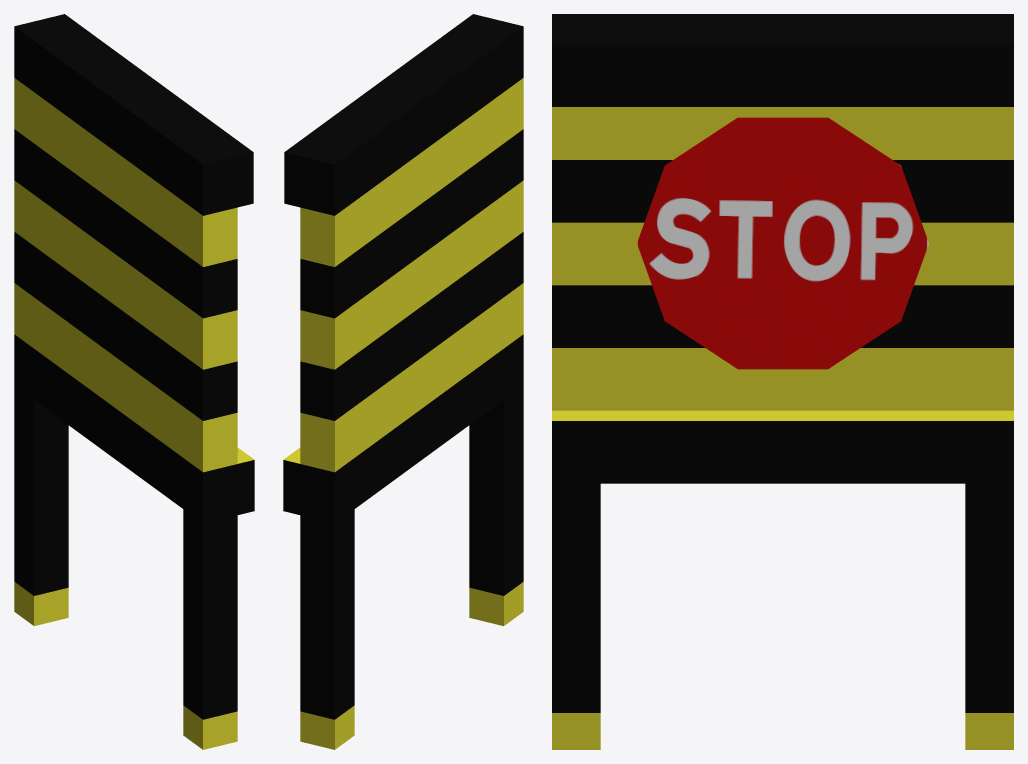
File: BarrierDown.fbx
The picture shows the model from 3 angles, left to right: view 1: azimuth 30°, elevation 25°; view 2: azimuth 150°, elevation 25°; view 3: azimuth 270°, elevation 25°; orthographic projection. The views are drawn at different scales.
Visible parts, largest first — view 1: Cube; view 2: Cube; view 3: Cube, Cylinder.
Boxes of the visible parts, box(x1,y1,x2,y2) form: Cube: box(14, 14, 254, 749); Cube: box(283, 14, 523, 749); Cube: box(552, 14, 1013, 749); Cylinder: box(637, 117, 928, 369).
Size of the model in its own units: 49.85 by 540 by 316.
